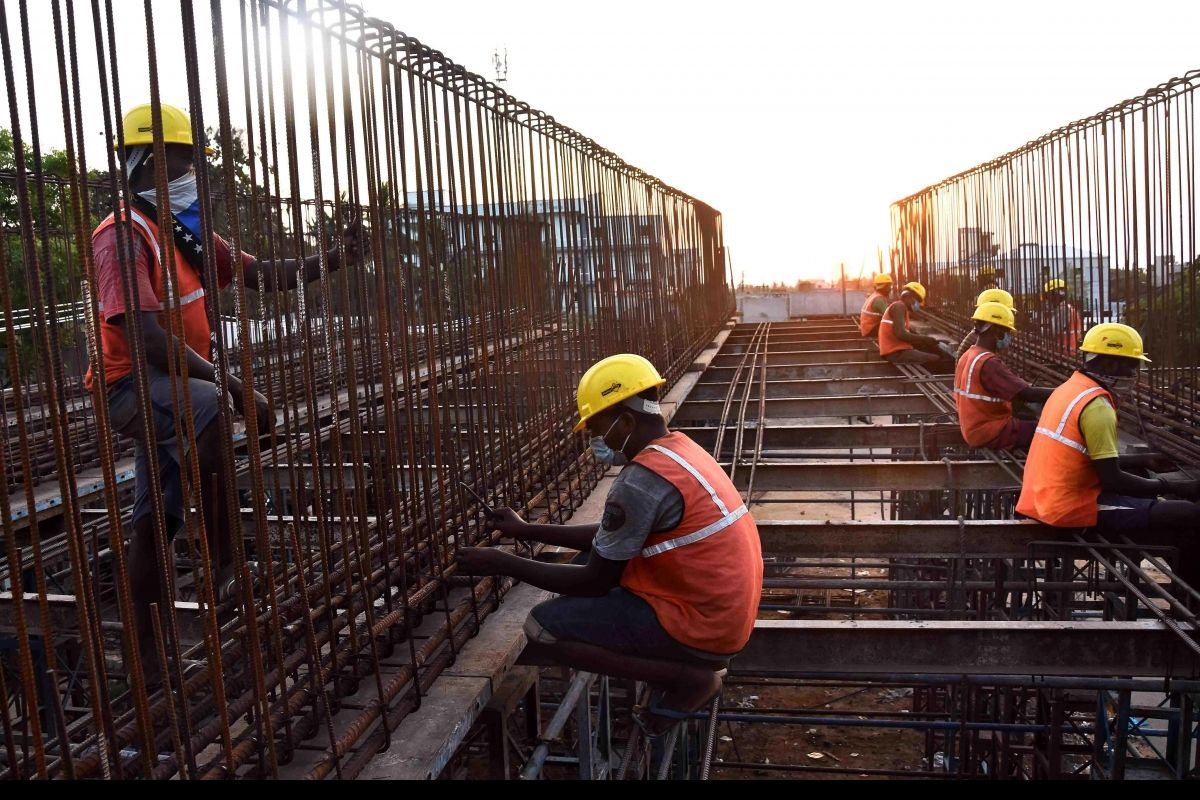hardhat: (550, 341, 674, 432), (105, 98, 197, 155), (1082, 319, 1157, 372), (962, 270, 1009, 302), (895, 278, 934, 308), (974, 303, 1009, 333), (1039, 275, 1079, 292), (866, 266, 886, 286)
person: (452, 334, 772, 707), (52, 94, 273, 616), (1020, 318, 1189, 586), (961, 303, 1025, 470), (954, 271, 1009, 392), (883, 276, 941, 386), (1029, 271, 1082, 357), (852, 257, 887, 341)
safety_vest: (587, 436, 761, 640), (90, 201, 212, 420), (1031, 366, 1093, 545), (966, 342, 1015, 456), (878, 298, 917, 369), (863, 279, 883, 338), (1059, 306, 1082, 354)
